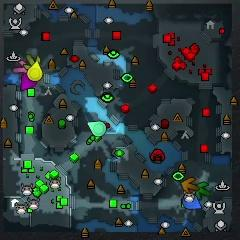p1: (182, 195, 202, 210)
p2: (87, 121, 106, 136)
p3: (20, 74, 37, 91)
p4: (27, 61, 43, 81)
x1: (12, 61, 29, 76)
x2: (24, 54, 40, 68)
x4: (194, 182, 211, 200)
x5: (182, 177, 198, 193)
